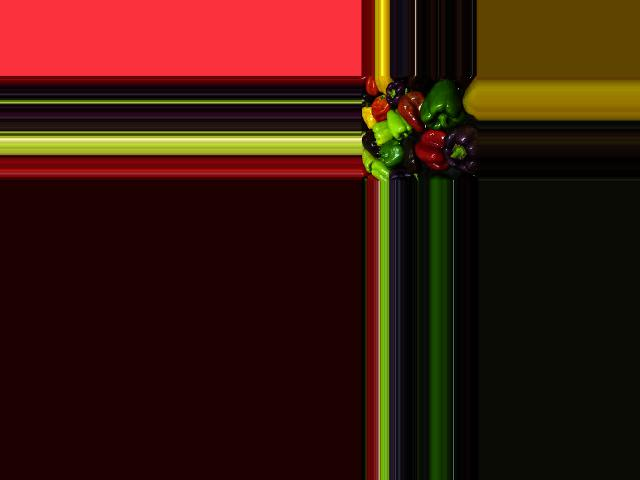bell_pepper: (381, 78, 406, 106)
